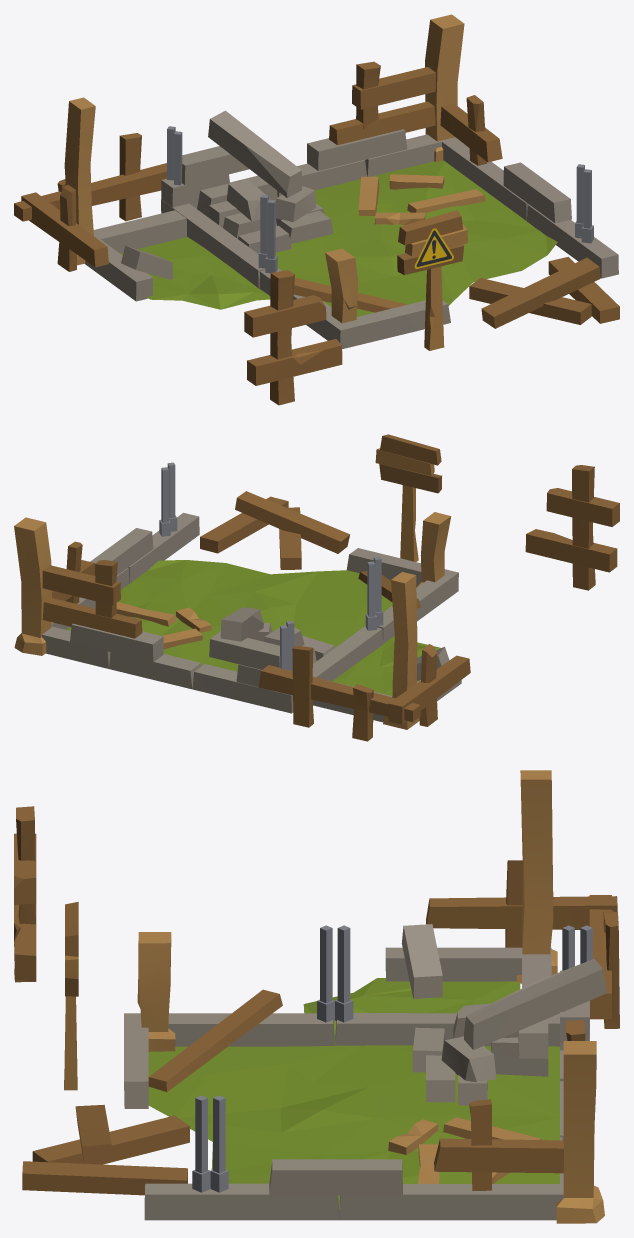
Rendered from Build_Foundation_02.FBX.
The picture shows the model from 3 angles, top to bottom: view 1: azimuth 30°, elevation 25°; view 2: azimuth 150°, elevation 25°; view 3: azimuth 270°, elevation 25°; orthographic projection. The views are drawn at different scales.
Parts seen in each view (by area): view 1: Build_Foundation_02_part_02, Build_Foundation_02_part_01, Build_Foundation_02_part_04, Build_Foundation_02_part_03; view 2: Build_Foundation_02_part_01, Build_Foundation_02_part_02, Build_Foundation_02_part_04, Build_Foundation_02_part_03; view 3: Build_Foundation_02_part_02, Build_Foundation_02_part_01, Build_Foundation_02_part_04, Build_Foundation_02_part_03.
Part boxes in pixels (<box>): Build_Foundation_02_part_02: <box>85,110,618,349</box>; Build_Foundation_02_part_01: <box>14,14,593,405</box>; Build_Foundation_02_part_04: <box>120,160,557,316</box>; Build_Foundation_02_part_03: <box>358,174,619,350</box>; Build_Foundation_02_part_01: <box>14,462,619,741</box>; Build_Foundation_02_part_02: <box>42,512,461,722</box>; Build_Foundation_02_part_04: <box>67,560,440,695</box>; Build_Foundation_02_part_03: <box>116,434,442,649</box>; Build_Foundation_02_part_02: <box>124,924,606,1220</box>; Build_Foundation_02_part_01: <box>14,770,619,1223</box>; Build_Foundation_02_part_04: <box>148,978,559,1210</box>; Build_Foundation_02_part_03: <box>22,901,541,1195</box>.
Size of the model in its own units: 588 by 201 by 550.
